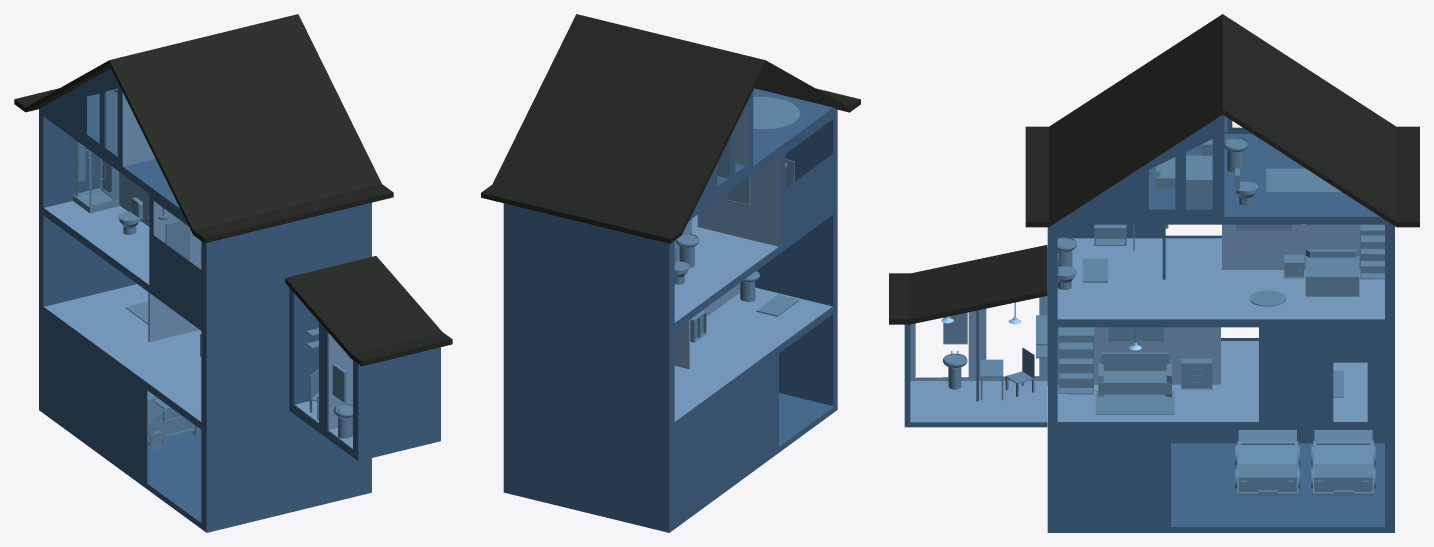
File: house.glb
3 views of the same model, side by side, from view 1: azimuth 30°, elevation 25°; view 2: azimuth 150°, elevation 25°; view 3: azimuth 270°, elevation 25° (orthographic). The views are drawn at different scales.
Visible parts, largest first — view 1: Cube.125, Cube.112, Grid.005, Cube.010, Cube.113, Cube.013, Cube.117, Cube.009, Cube.012, kinewall-2.001, Cylinder.001, Cube.120 (+8 smaller); view 2: Cube.125, Cube.112, Grid.005, Cube.113, Cube.117, Cube.122, Cylinder.035, Cube.009, Cube.120, Cube.121, Cylinder.060, Cube.055 (+1 smaller); view 3: Cube.112, Grid.002, Cube.125, Cube.117, Cube.113, Cube.010, Cube.014, Cube.018, Cube.123, Cylinder.001, Cylinder, Cube.118 (+18 smaller).
Part boxes in pixels (<box>): Cube.125: <box>39,92,371,532</box>; Cube.112: <box>14,14,393,243</box>; Grid.005: <box>39,107,205,531</box>; Cube.010: <box>285,256,452,366</box>; Cube.113: <box>44,284,201,421</box>; Cube.013: <box>355,347,440,461</box>; Cube.117: <box>44,201,149,284</box>; Cube.009: <box>42,68,122,166</box>; Cube.012: <box>289,288,357,459</box>; kinewall-2.001: <box>73,140,119,213</box>; Cylinder.001: <box>147,398,201,450</box>; Cube.120: <box>148,292,199,341</box>; Cube.125: <box>503,88,837,532</box>; Cube.112: <box>481,14,860,243</box>; Grid.005: <box>670,107,837,531</box>; Cube.113: <box>674,287,832,421</box>; Cube.117: <box>674,215,778,322</box>; Cube.122: <box>697,154,780,246</box>; Cylinder.035: <box>753,96,800,130</box>; Cube.009: <box>695,90,753,208</box>; Cube.120: <box>674,319,690,369</box>; Cube.121: <box>735,101,748,165</box>; Cylinder.060: <box>675,234,699,267</box>; Cube.055: <box>756,294,799,316</box>; Cube.112: <box>1025,14,1419,227</box>; Grid.002: <box>1049,217,1393,532</box>; Cube.125: <box>1047,134,1394,532</box>; Cube.117: <box>1057,238,1384,319</box>; Cube.113: <box>1057,341,1367,421</box>; Cube.010: <box>889,245,1047,324</box>; Cube.014: <box>910,381,1047,427</box>; Cube.018: <box>1065,116,1221,216</box>; Cube.123: <box>1222,224,1360,269</box>; Cylinder.001: <box>1235,430,1299,495</box>; Cylinder: <box>1311,430,1375,495</box>; Cube.118: <box>1057,327,1220,384</box>.
Bounding box in the file's own units: 15.99 × 33.5 × 37.56.
2 materials, 2 textured.
